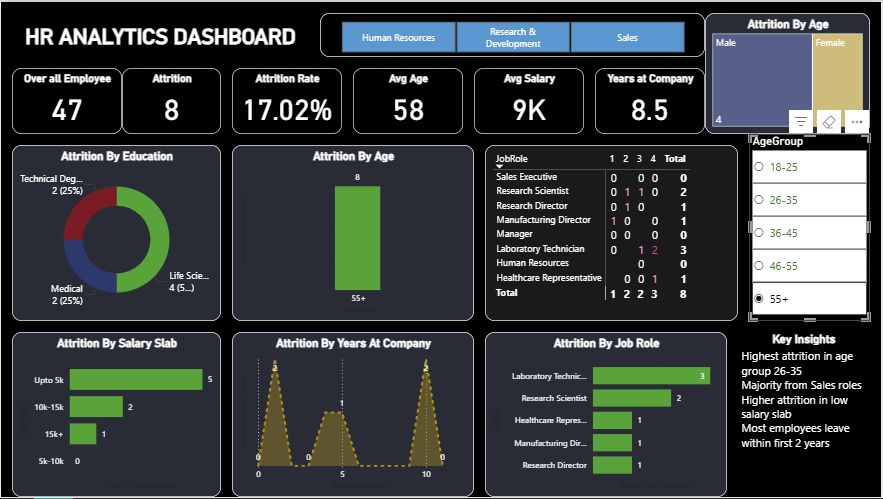

The page's visual inventory and layout, read from the dashboard file:
{"tool":"powerbi","page":{"name":"Page 1","canvas":[1280,720],"ordinal":0},"visuals":[{"type":"card","title":"Over all Employee","fields":{"Values":["CountNonNull(HR_Analytics (1).EmpID)"]},"box":[16,96,144,96],"z":0},{"type":"card","title":"Attrition","fields":{"Values":["Sum(HR_Analytics (1).AttritionCount)"]},"box":[176,96,144,96],"z":1000},{"type":"card","title":"Attrition Rate","fields":{"Values":["HR_Analytics (1).AttritionRate"]},"box":[336,96,160,96],"z":2000},{"type":"card","title":"Avg Age","fields":{"Values":["Avg(HR_Analytics (1).Age)"]},"box":[512,96,160,96],"z":3000},{"type":"card","title":"Years at Company","fields":{"Values":["Avg(HR_Analytics (1).YearsAtCompany)"]},"box":[864,96,160,96],"z":4000},{"type":"card","title":"Avg Salary","fields":{"Values":["Avg(HR_Analytics (1).MonthlyIncome)"]},"box":[688,96,160,96],"z":5000},{"type":"donutChart","title":"Attrition By Education","fields":{"Category":["HR_Analytics (1).EducationField"],"Y":["Sum(HR_Analytics (1).AttritionCount)"]},"box":[16,208,304,256],"z":6000},{"type":"columnChart","title":"Attrition By Age","fields":{"Category":["HR_Analytics (1).AgeGroup"],"Y":["Sum(HR_Analytics (1).AttritionCount)"]},"box":[336,208,336,256],"z":7000},{"type":"pivotTable","title":"Job ","fields":{"Rows":["HR_Analytics (1).JobRole"],"Columns":["HR_Analytics (1).JobSatisfaction"],"Values":["Sum(HR_Analytics (1).AttritionCount)"]},"box":[688,208,368,256],"z":8000},{"type":"barChart","title":"Attrition By Salary Slab","fields":{"Category":["HR_Analytics (1).SalarySlab"],"Y":["Sum(HR_Analytics (1).AttritionCount)"]},"box":[16,480,304,240],"z":9000},{"type":"areaChart","title":"Attrition By Years At Company","fields":{"Category":["HR_Analytics (1).YearsAtCompany"],"Y":["Sum(HR_Analytics (1).AttritionCount)"]},"box":[336,480,352,240],"z":10000},{"type":"barChart","title":"Attrition By Job Role","fields":{"Y":["Sum(HR_Analytics (1).AttritionCount)"],"Category":["HR_Analytics (1).JobRole"]},"box":[704,480,352,240],"z":11000},{"type":"treemap","title":"Attrition By Age","fields":{"Group":["HR_Analytics (1).Gender"],"Values":["Sum(HR_Analytics (1).AttritionCount)"]},"box":[1024,16,240,176],"z":12000},{"type":"slicer","fields":{"Values":["HR_Analytics (1).Department"]},"box":[464,16,560,64],"z":13000},{"type":"textbox","title":"HR ANALYTICS DASHBOARD","box":[16,32,432,32],"z":14000},{"type":"listSlicer","fields":{"Values":["HR_Analytics (1).AgeGroup"]},"box":[1072,192,192,272],"z":15000},{"type":"textbox","title":"Key Insights","box":[1072,480,192,224],"z":16000}]}

Visuals, with their boxes in screenshot pixels (x1, y1, x2, y2), scaled from the page's 1280x720 canvas onto the 883x499 screenshot:
"Over all Employee" card: left=11, top=67, right=110, bottom=133
"Attrition" card: left=121, top=67, right=221, bottom=133
"Attrition Rate" card: left=232, top=67, right=342, bottom=133
"Avg Age" card: left=353, top=67, right=464, bottom=133
"Years at Company" card: left=596, top=67, right=706, bottom=133
"Avg Salary" card: left=475, top=67, right=585, bottom=133
"Attrition By Education" donutChart: left=11, top=144, right=221, bottom=322
"Attrition By Age" columnChart: left=232, top=144, right=464, bottom=322
"Job " pivotTable: left=475, top=144, right=728, bottom=322
"Attrition By Salary Slab" barChart: left=11, top=333, right=221, bottom=498
"Attrition By Years At Company" areaChart: left=232, top=333, right=475, bottom=498
"Attrition By Job Role" barChart: left=486, top=333, right=728, bottom=498
"Attrition By Age" treemap: left=706, top=11, right=872, bottom=133
slicer - HR_Analytics (1).Department: left=320, top=11, right=706, bottom=55
"HR ANALYTICS DASHBOARD" textbox: left=11, top=22, right=309, bottom=44
listSlicer - HR_Analytics (1).AgeGroup: left=740, top=133, right=872, bottom=322
"Key Insights" textbox: left=740, top=333, right=872, bottom=488
